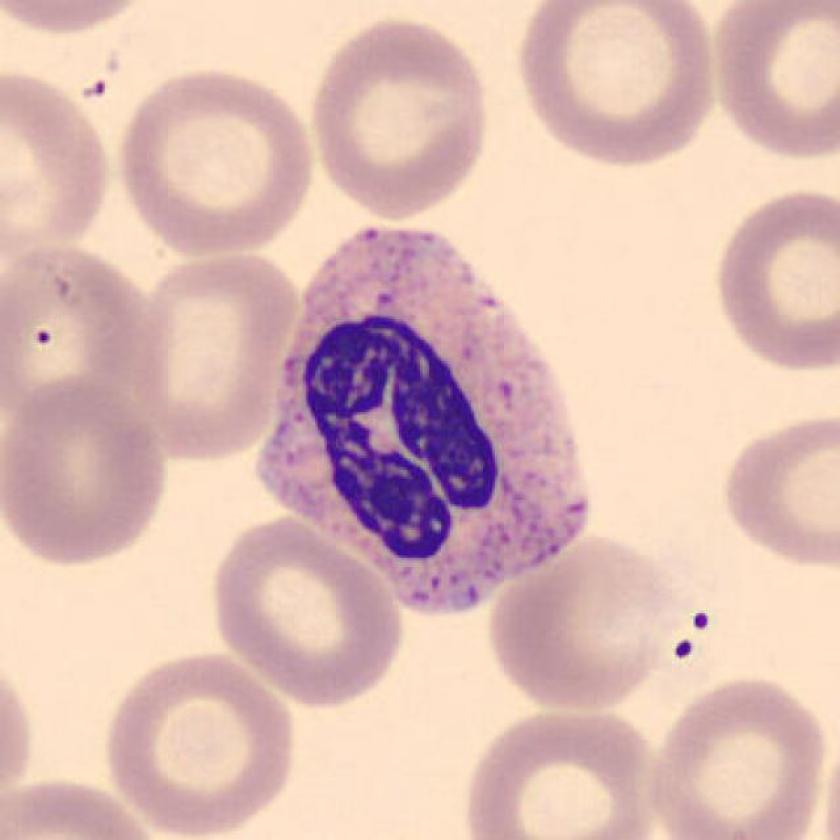neutrophil: (259, 228, 587, 615)
